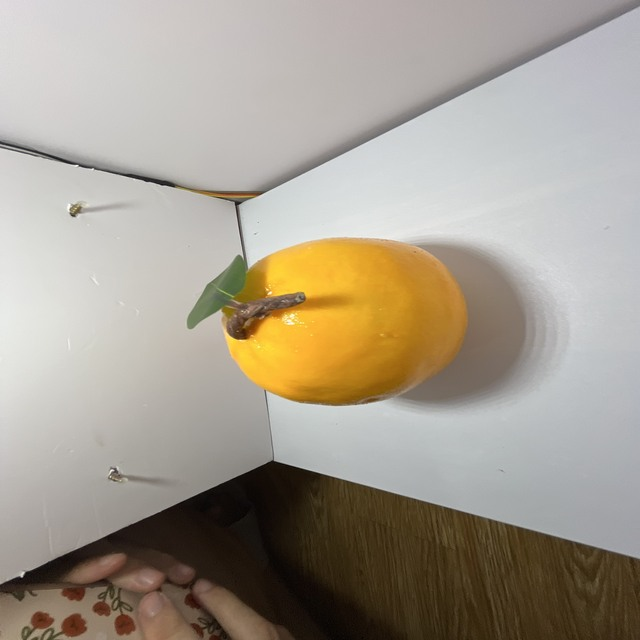Cam vang: (210, 234, 478, 411)
